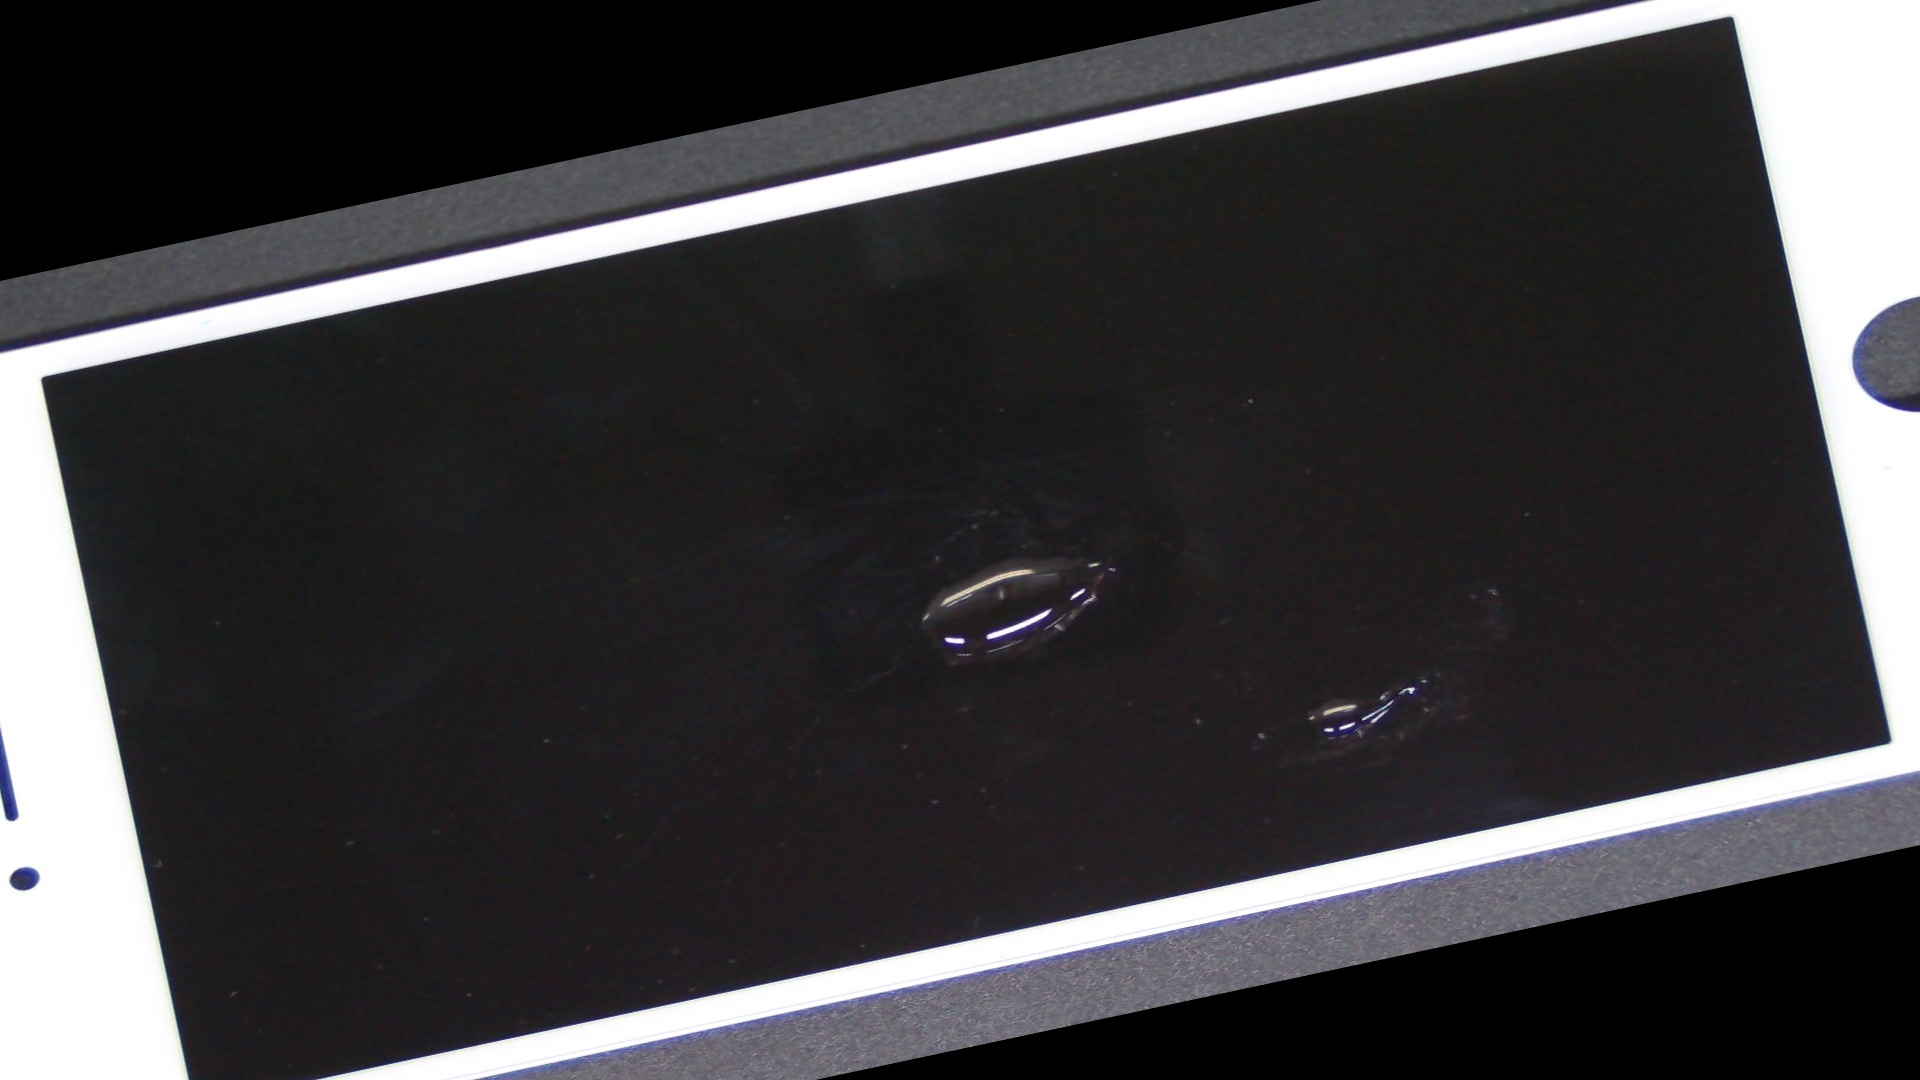oil: (601, 198, 1920, 1080), (392, 204, 1617, 915)
